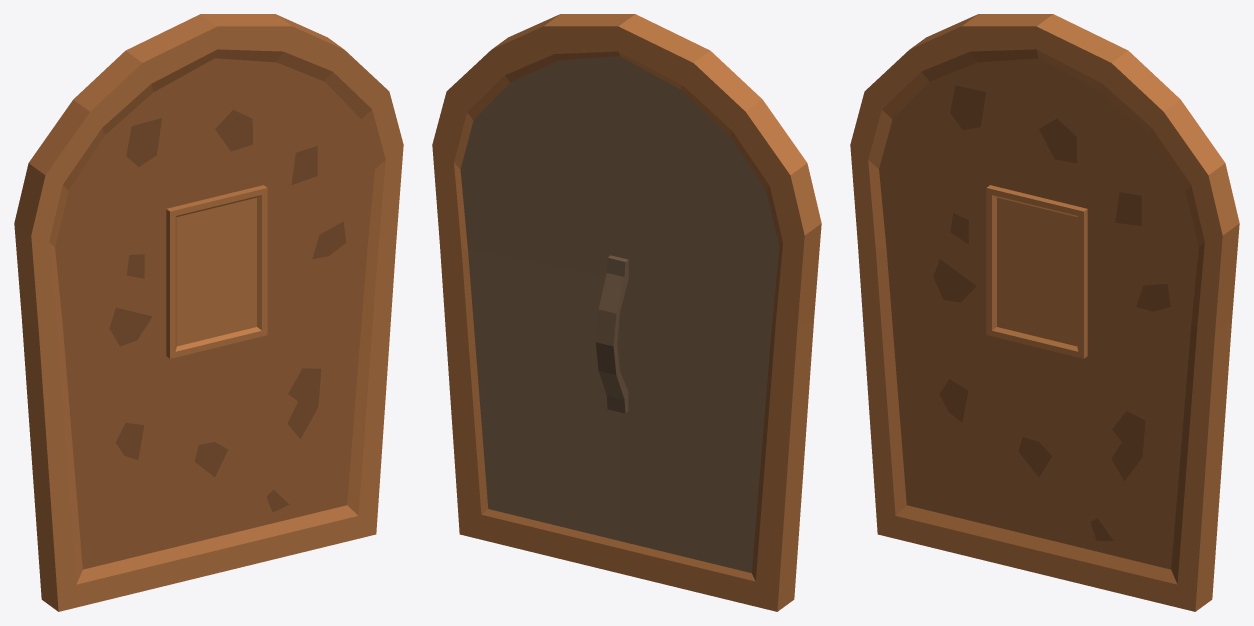
Rendered from SM_pwe_egypt_shield_07.fbx.
The picture shows the model from 3 angles, left to right: view 1: azimuth 30°, elevation 25°; view 2: azimuth 150°, elevation 25°; view 3: azimuth 330°, elevation 25°; orthographic projection.
Visible parts, largest first — view 1: SM_pwe_egypt_shield_07; view 2: SM_pwe_egypt_shield_07; view 3: SM_pwe_egypt_shield_07.
Boxes of the visible parts, box(x1,y1,x2,y2) form: SM_pwe_egypt_shield_07: box(14, 14, 403, 611); SM_pwe_egypt_shield_07: box(432, 14, 821, 611); SM_pwe_egypt_shield_07: box(850, 14, 1239, 611).
Size of the model in its own units: 56.37 by 79.08 by 8.13.
